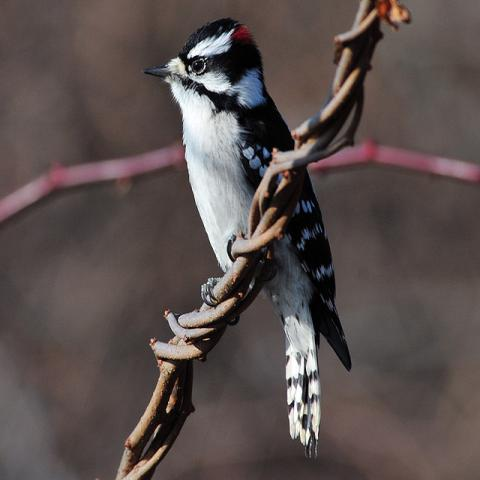bird: (140, 16, 354, 459)
